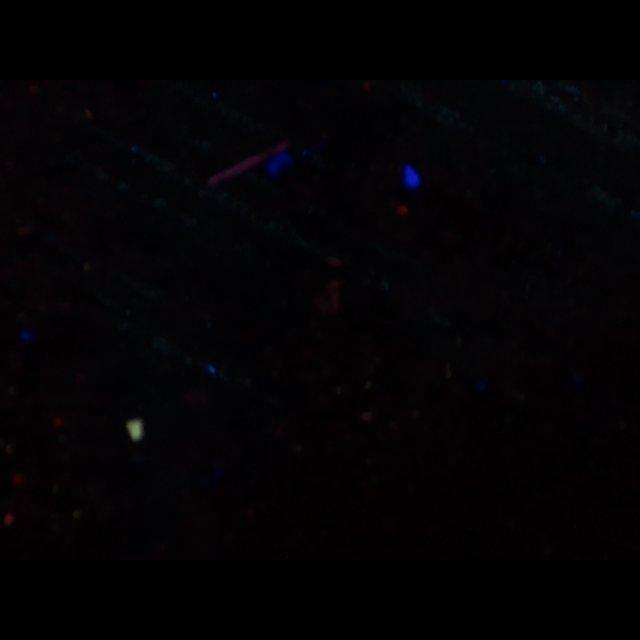microbeads: (126, 419, 146, 441)
